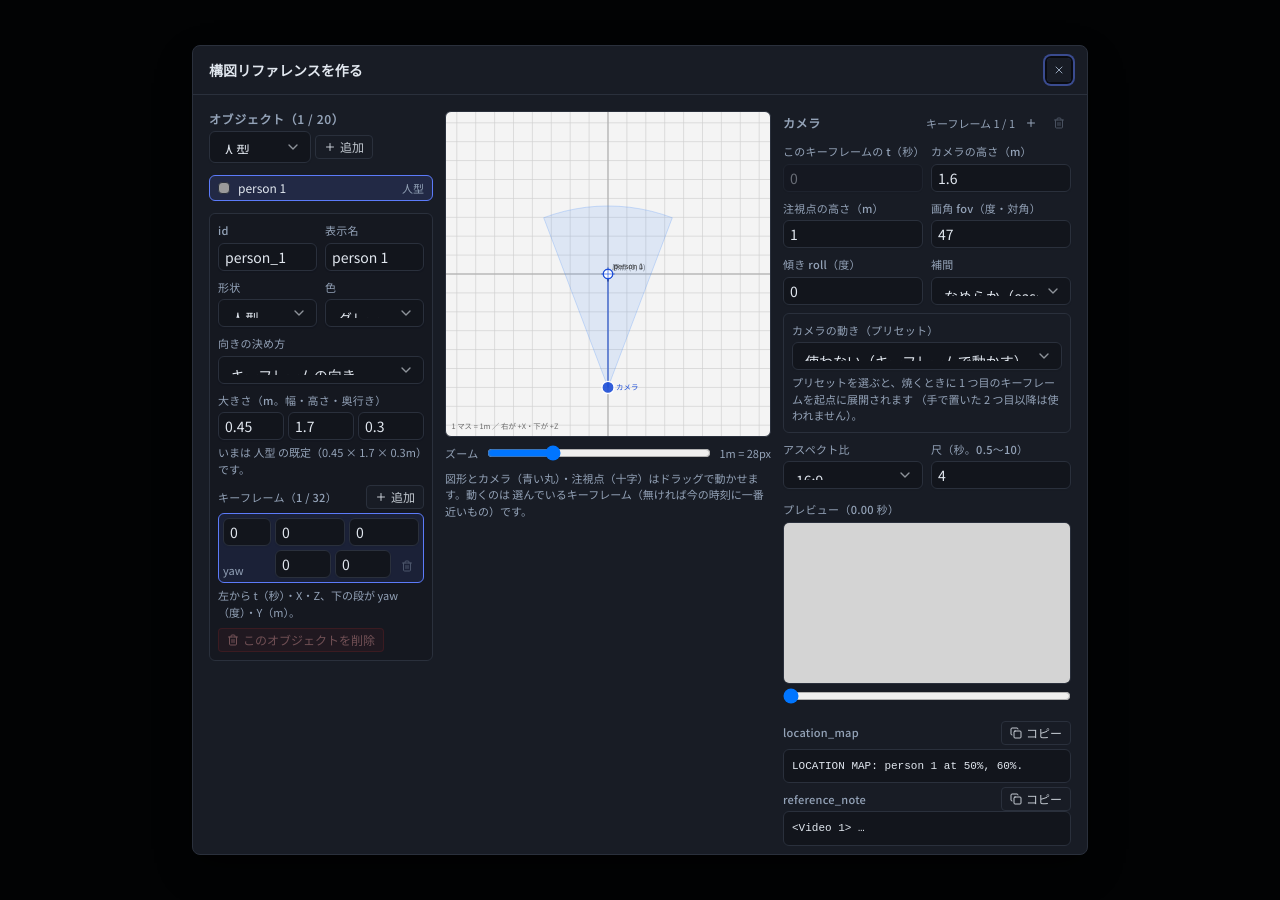
Test case: BlockingBuilderModal › オブジェクトを足すとシーンが増える
Click the button "追加" below "オブジェクト（" at (344, 147), box [315,135,373,159]
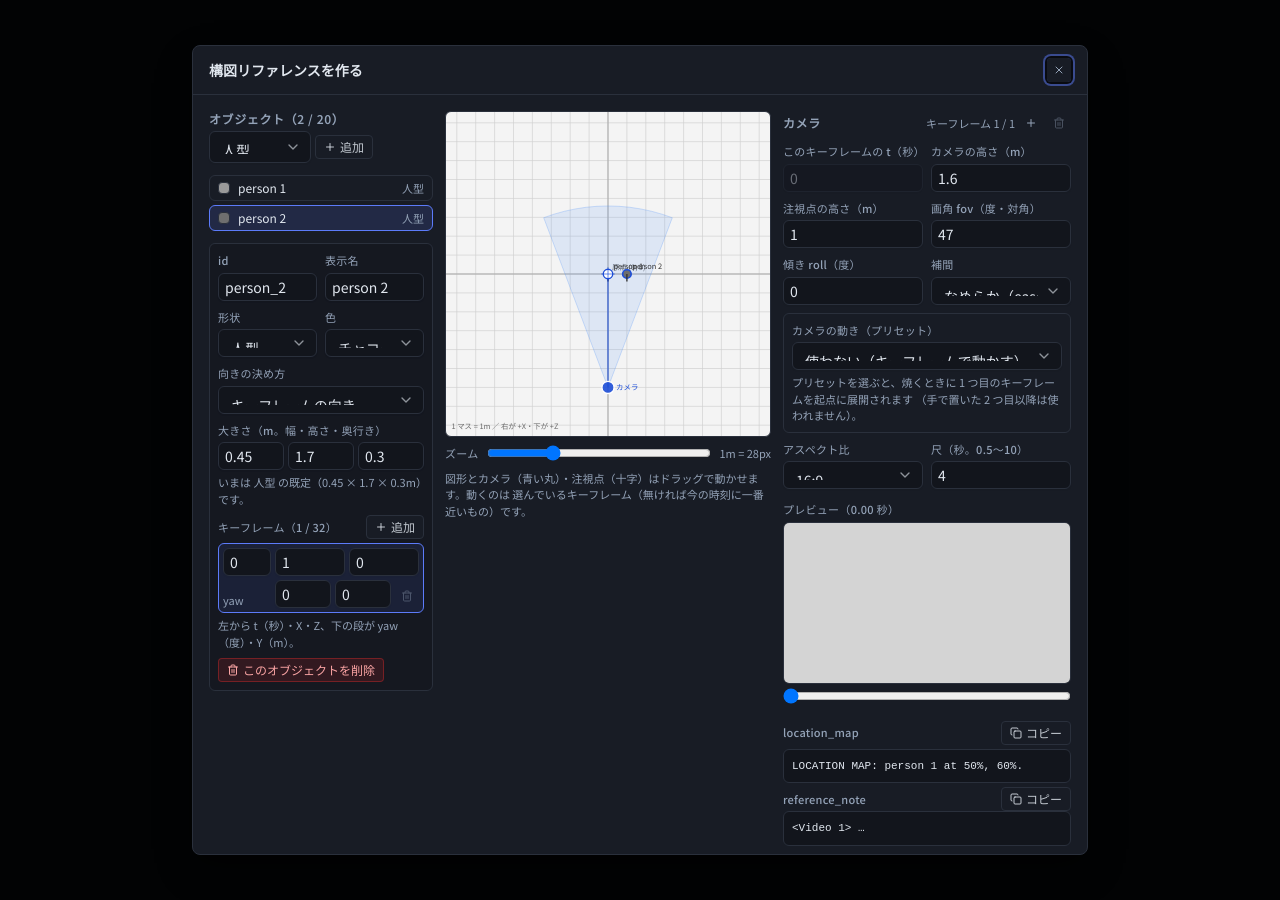
Expected: the field named "オブジェクトの id" holds "person_2", [218,272,317,300]
